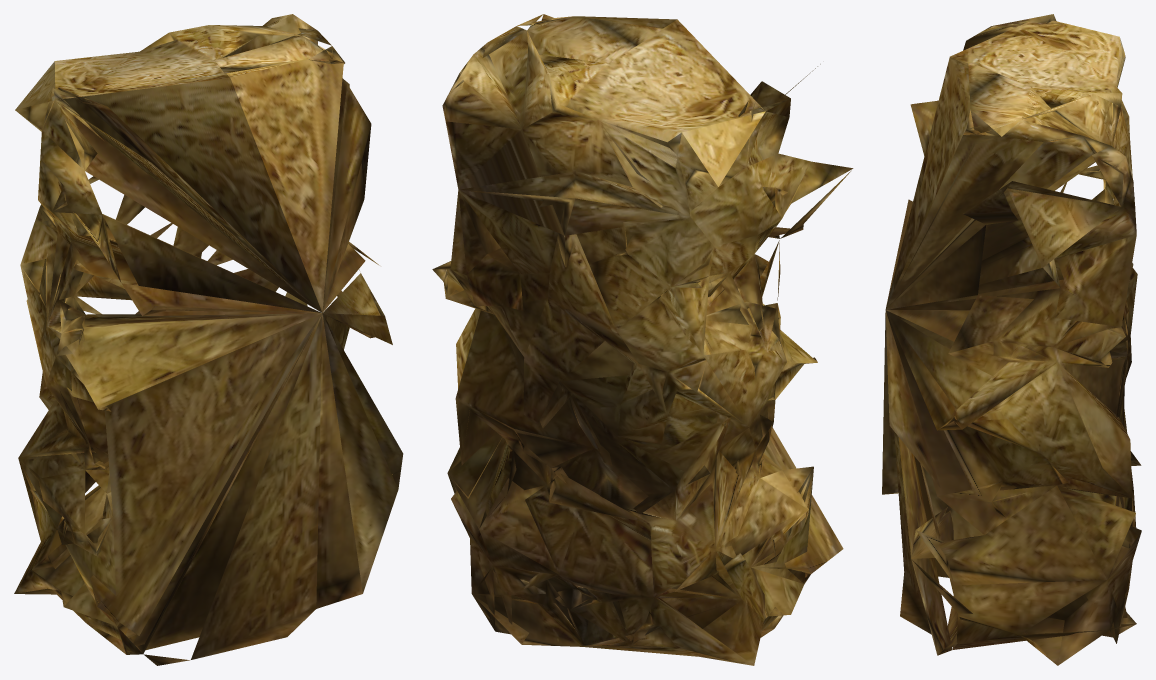
Rendered from cs_bale.glb.
3 views of the same model, side by side, from view 1: azimuth 30°, elevation 25°; view 2: azimuth 150°, elevation 25°; view 3: azimuth 270°, elevation 25° (orthographic). The views are drawn at different scales.
Visible parts, largest first — view 1: tripo_node_77a0ee37-47a4-414a-b2c3-e5b5fe37bc55; view 2: tripo_node_77a0ee37-47a4-414a-b2c3-e5b5fe37bc55; view 3: tripo_node_77a0ee37-47a4-414a-b2c3-e5b5fe37bc55.
Boxes of the visible parts, <box> form: tripo_node_77a0ee37-47a4-414a-b2c3-e5b5fe37bc55: <box>14,14,403,665</box>; tripo_node_77a0ee37-47a4-414a-b2c3-e5b5fe37bc55: <box>432,14,853,665</box>; tripo_node_77a0ee37-47a4-414a-b2c3-e5b5fe37bc55: <box>882,14,1141,665</box>.
Size of the model in its own units: 0.6006 by 1 by 0.4264.
Materials: 1 (1 with a texture image).
